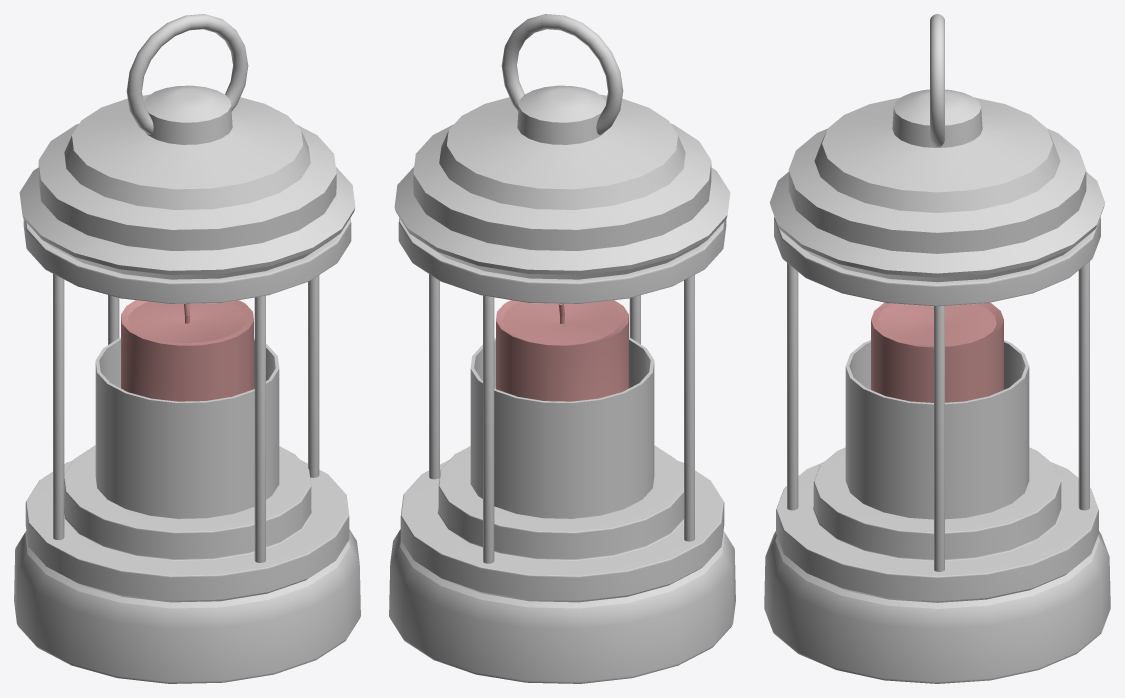
The model's file is lantern.fbx.
The picture shows the model from 3 angles, left to right: view 1: azimuth 30°, elevation 25°; view 2: azimuth 150°, elevation 25°; view 3: azimuth 270°, elevation 25°; orthographic projection.
Visible parts, largest first — view 1: lanternBottom, lanternTop, lanternHandle, support, support3, support2, support1; view 2: lanternBottom, lanternTop, lanternHandle, support1, support3, support2, support; view 3: lanternBottom, lanternTop, support1, support2, support, lanternHandle.
Boxes of the visible parts, x1,y1,x2,y2 form: lanternBottom: (14, 300, 360, 683); lanternTop: (19, 85, 355, 303); lanternHandle: (126, 14, 248, 134); support: (254, 296, 265, 562); support3: (53, 274, 64, 539); support2: (308, 275, 319, 477); support1: (108, 295, 119, 344); lanternBottom: (389, 300, 735, 683); lanternTop: (394, 85, 730, 303); lanternHandle: (501, 14, 623, 134); support1: (483, 295, 494, 563); support3: (684, 275, 694, 541); support2: (429, 274, 439, 479); support: (629, 295, 640, 344); lanternBottom: (764, 302, 1110, 683); lanternTop: (769, 89, 1105, 306); support1: (1078, 261, 1089, 510); support2: (934, 306, 944, 571); support: (787, 263, 798, 510); lanternHandle: (930, 14, 944, 146).
Size of the model in its own units: 2.37 by 4.47 by 2.37.
